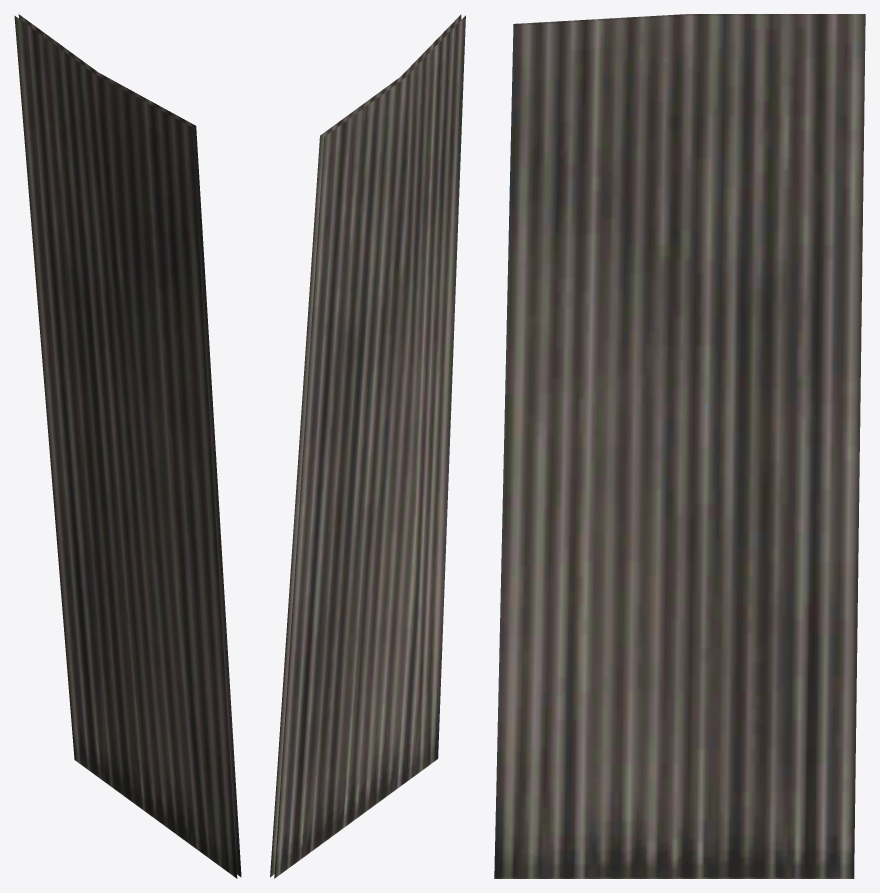
Rendered from plategrey022_plates_0_lev1.glb.
3 views of the same model, side by side, from view 1: azimuth 30°, elevation 25°; view 2: azimuth 150°, elevation 25°; view 3: azimuth 270°, elevation 25° (orthographic). The views are drawn at different scales.
Visible parts, largest first — view 1: plategrey022_plates_0_lev1; view 2: plategrey022_plates_0_lev1; view 3: plategrey022_plates_0_lev1.
Boxes of the visible parts, x1,y1,x2,y2 form: plategrey022_plates_0_lev1: [14, 14, 241, 878]; plategrey022_plates_0_lev1: [270, 14, 465, 878]; plategrey022_plates_0_lev1: [494, 14, 865, 878].
Bounding box in the file's own units: 0.0748 × 0.9123 × 0.3682.
Materials: 1 (1 with a texture image).
